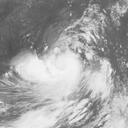cyclone: (46, 48, 82, 93)
